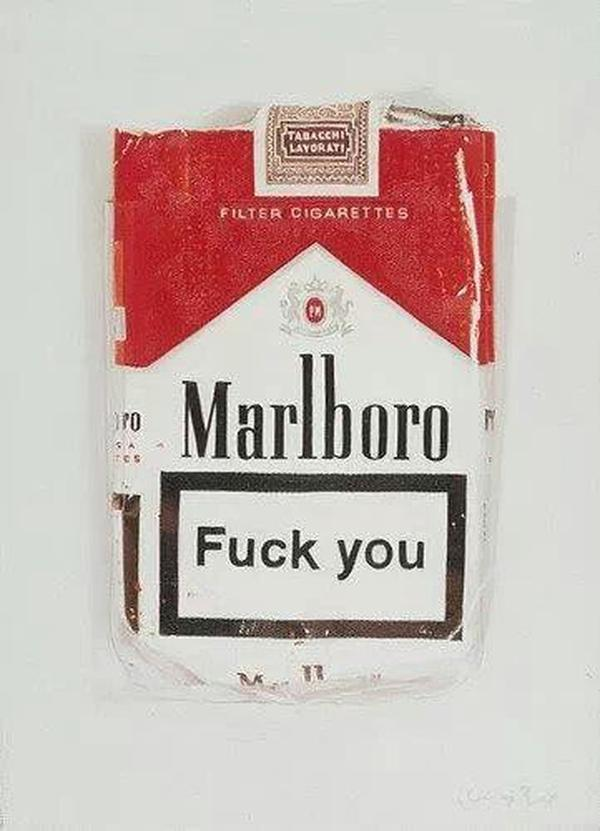marlboro_red: (163, 128, 468, 644)
